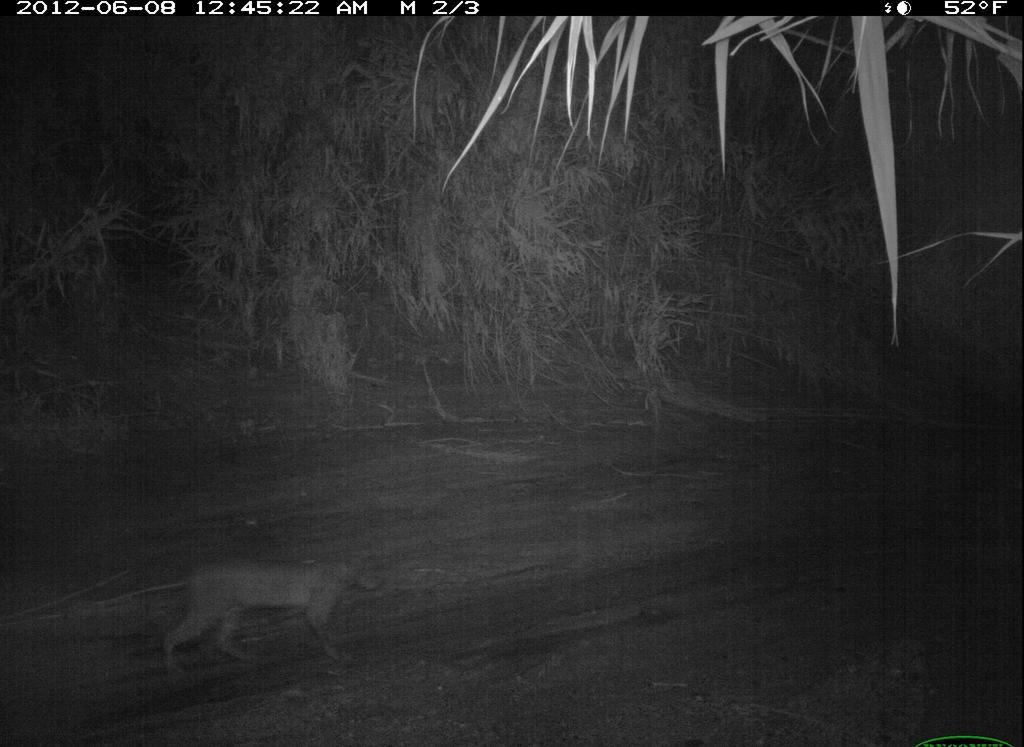bobcat: (158, 546, 390, 681)
